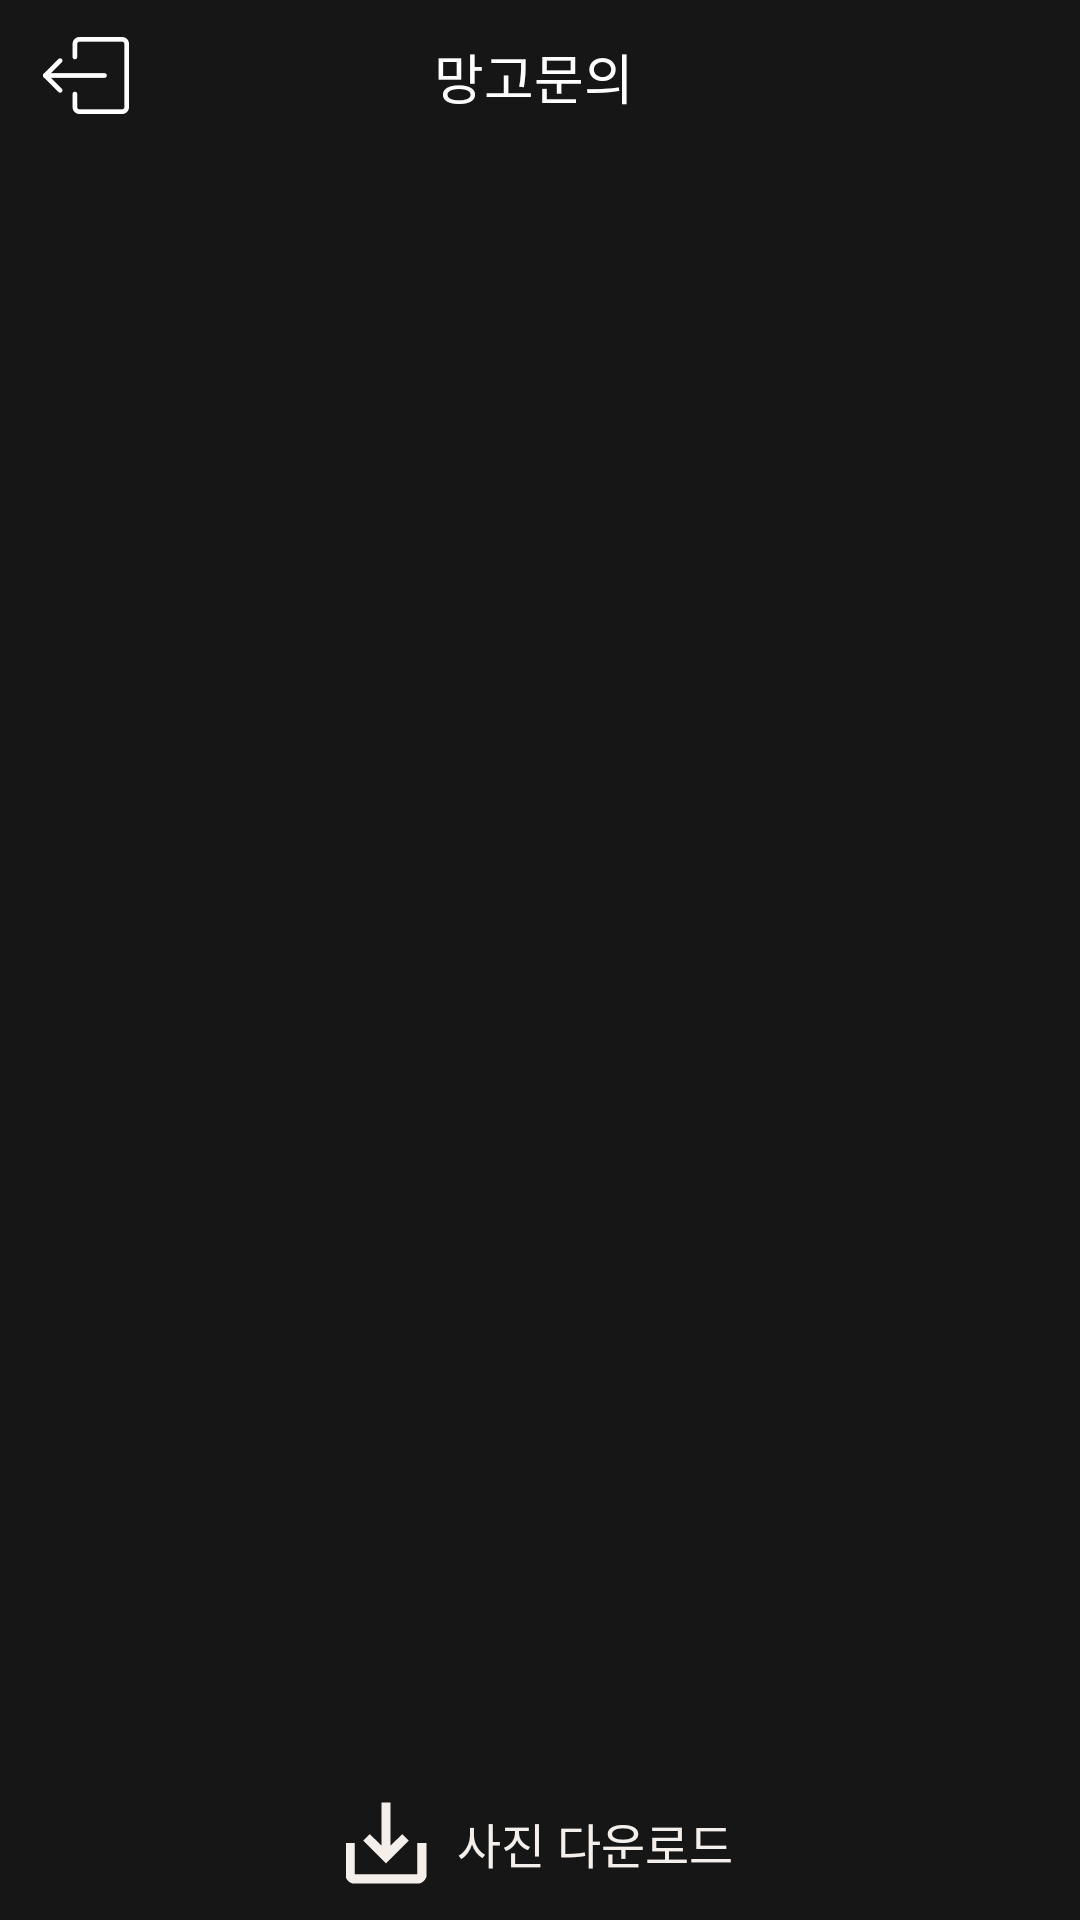

Screen size 1080w x 1920h. Icon name, then its center in pixels as (x,y):
download: (386,1843)
